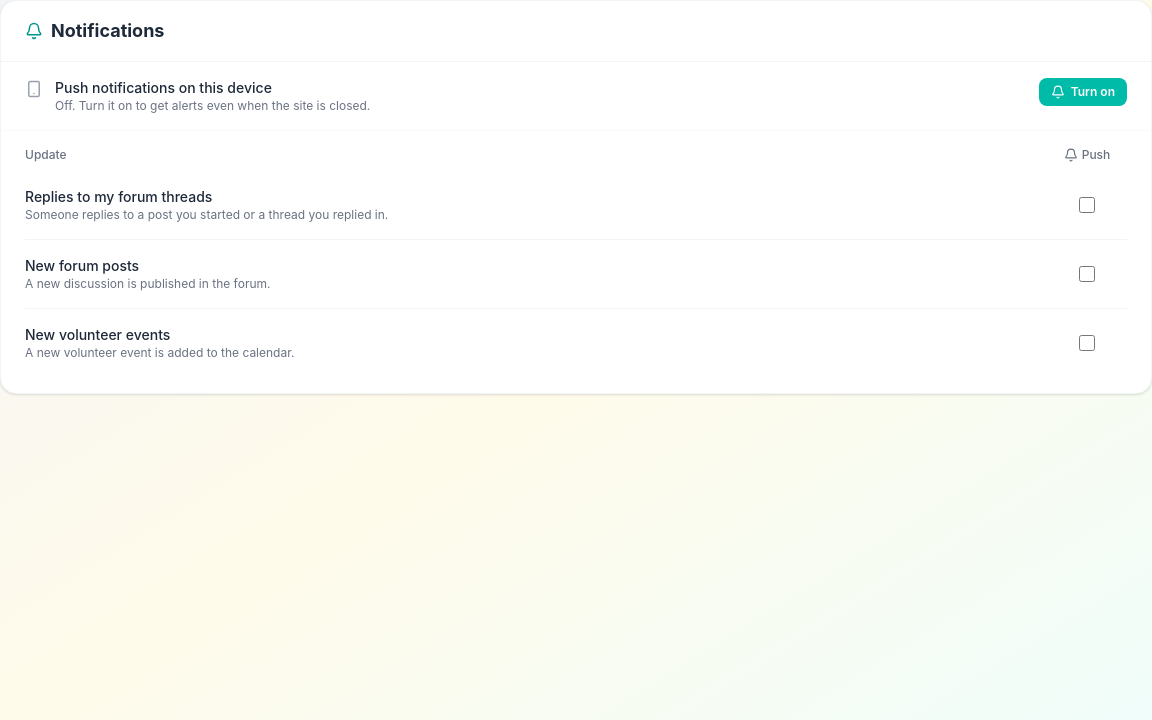
Scenario: NotificationSettings › shows only push choices and saves a topic choice as soon as it is toggled
Click the checkbox named "Push: Replies to my forum threads". click: (1087, 205)
box: left=1079, top=197, right=1095, bottom=213
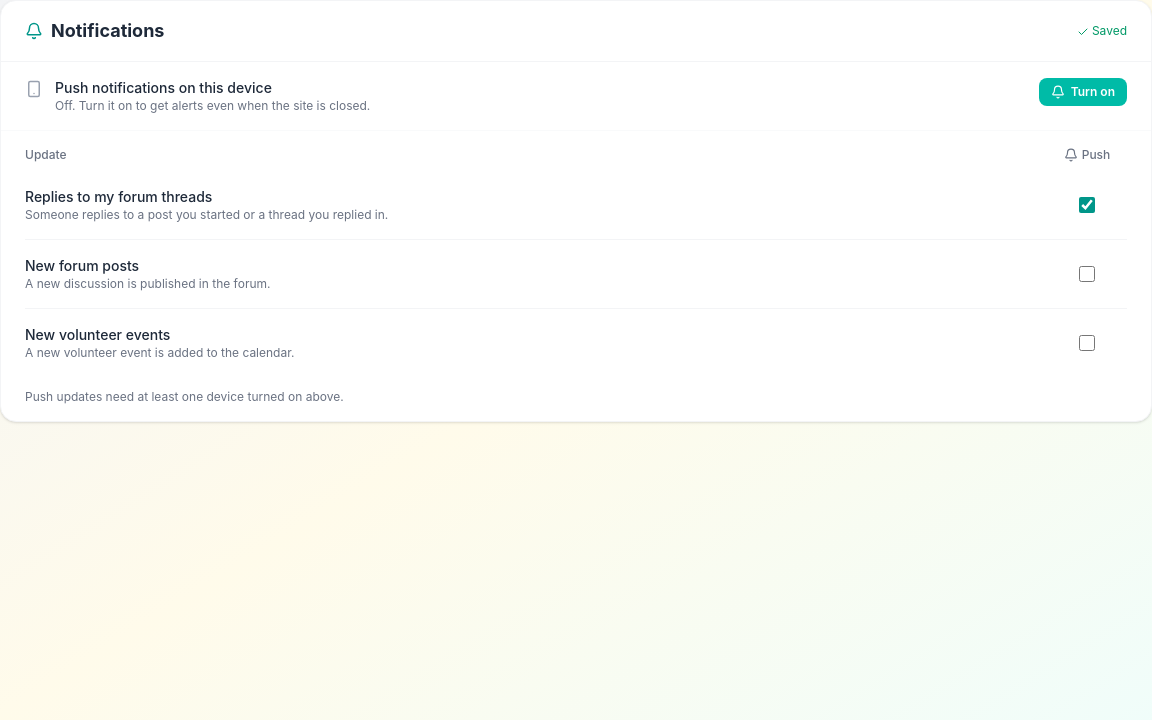
Now the text "Saved" is shown, box left=1076, top=23, right=1127, bottom=38
Now the text "Push updates need at least one device turned on above." is shown, box left=25, top=389, right=344, bottom=404
